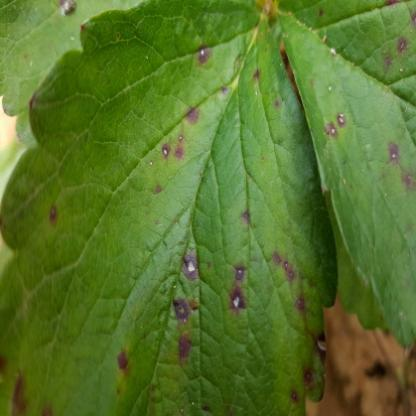Strawberry_Leaf_Spot: (0, 0, 340, 415), (274, 0, 415, 358), (0, 0, 138, 149)
